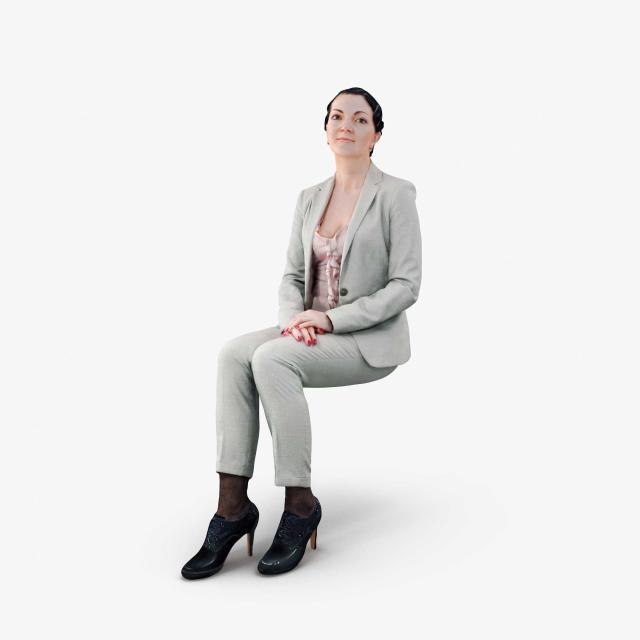nonfall: (178, 52, 422, 588)
